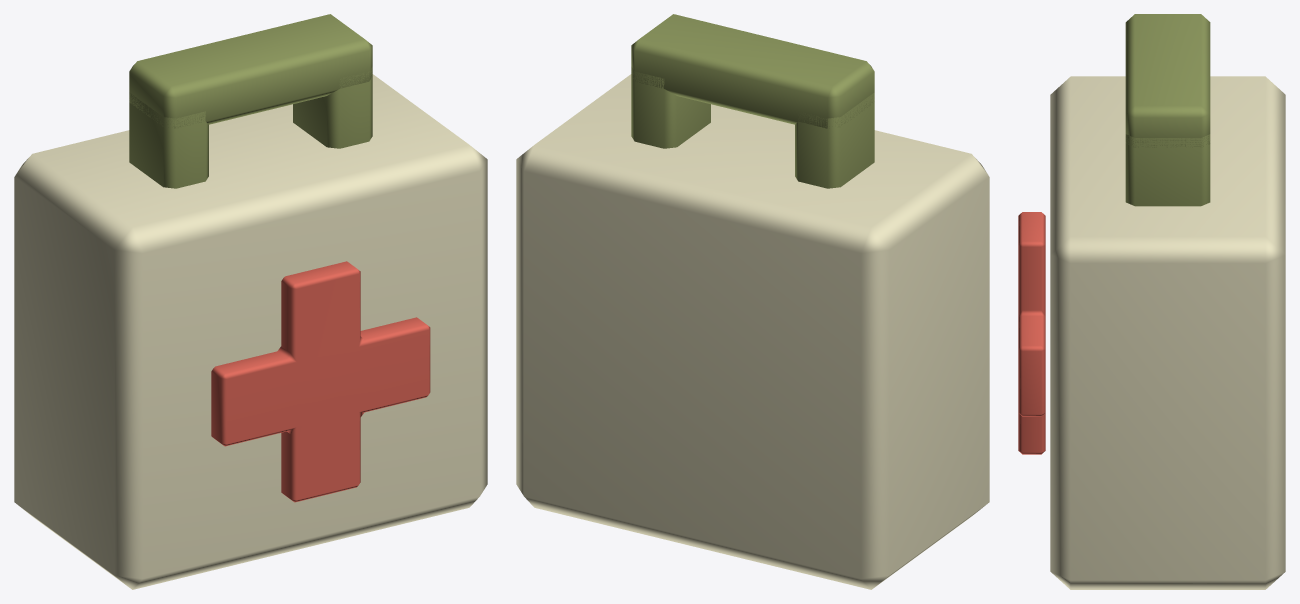
File: bonus_heart.glb
3 views of the same model, side by side, from view 1: azimuth 30°, elevation 25°; view 2: azimuth 150°, elevation 25°; view 3: azimuth 270°, elevation 25° (orthographic). The views are drawn at different scales.
Parts seen in each view (by area): view 1: Case.002, Medical cross.001, Handle top.002, Handle left.002, Handle right.002; view 2: Case.002, Handle top.002, Handle left.002, Handle right.002; view 3: Case.002, Handle top.002, Medical cross.001, Handle right.002.
Part boxes in pixels (x1,y1,x2,y2): Case.002: [14, 74, 487, 589]; Medical cross.001: [211, 261, 430, 502]; Handle top.002: [129, 14, 372, 128]; Handle left.002: [129, 92, 208, 188]; Handle right.002: [293, 66, 372, 148]; Case.002: [516, 74, 989, 589]; Handle top.002: [631, 14, 874, 128]; Handle left.002: [795, 93, 874, 188]; Handle right.002: [631, 66, 710, 148]; Case.002: [1050, 76, 1285, 589]; Handle top.002: [1125, 14, 1210, 147]; Medical cross.001: [1018, 212, 1045, 454]; Handle right.002: [1125, 134, 1210, 206].
Size of the model in its own units: 1.35 by 1.59 by 0.8584.
